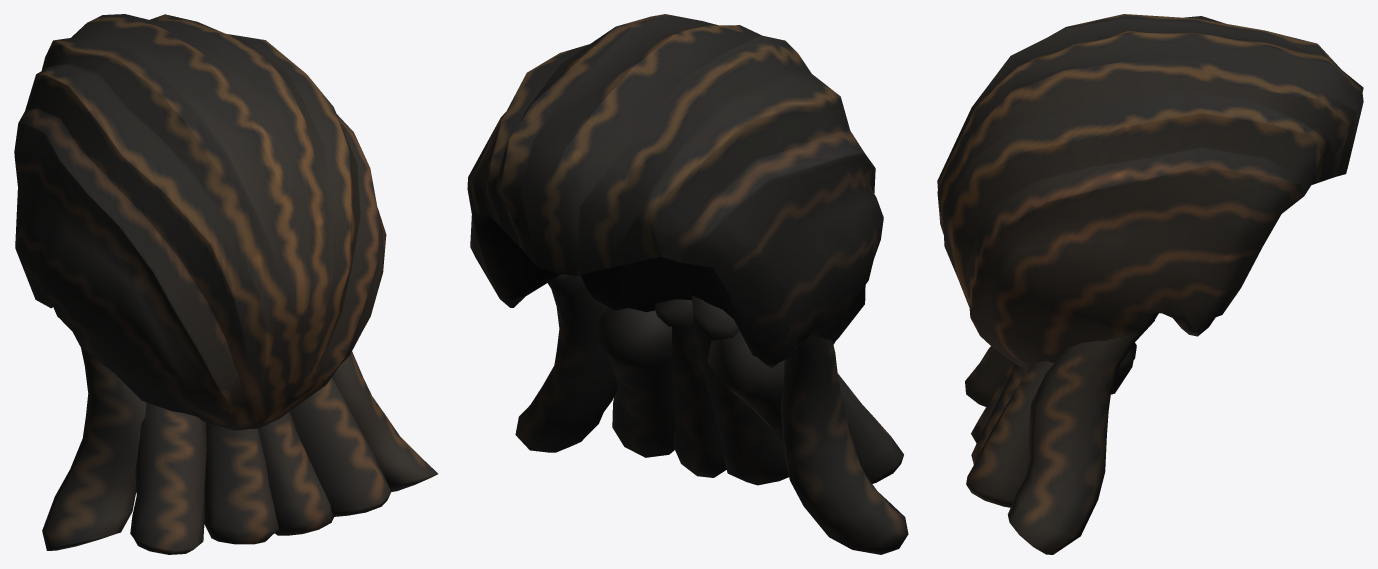
The picture shows the model from 3 angles, left to right: view 1: azimuth 30°, elevation 25°; view 2: azimuth 150°, elevation 25°; view 3: azimuth 270°, elevation 25°; orthographic projection. The views are drawn at different scales.
Visible parts, largest first — view 1: geometry_0; view 2: geometry_0; view 3: geometry_0.
Boxes of the visible parts, x1,y1,x2,y2 form: geometry_0: (14, 14, 437, 554); geometry_0: (467, 14, 908, 554); geometry_0: (937, 14, 1363, 554).
Size of the model in its own units: 0.8363 by 0.9673 by 0.8491.
Materials: 1 (1 with a texture image).
